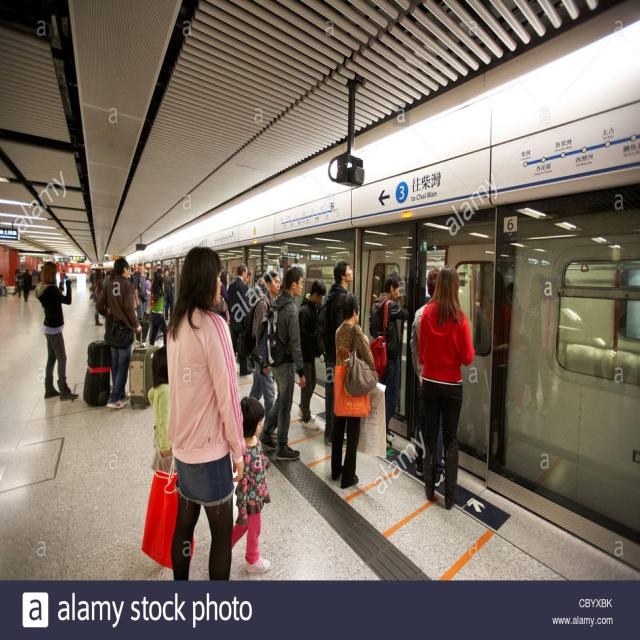body: (0, 260, 269, 377), (166, 244, 246, 582), (414, 261, 478, 512), (326, 289, 388, 490), (255, 264, 313, 462), (410, 265, 447, 489), (94, 255, 143, 412), (315, 258, 355, 448), (368, 272, 410, 450), (231, 394, 271, 574), (33, 259, 79, 402), (247, 268, 282, 440), (298, 277, 328, 431), (227, 262, 253, 377), (148, 273, 168, 348)
